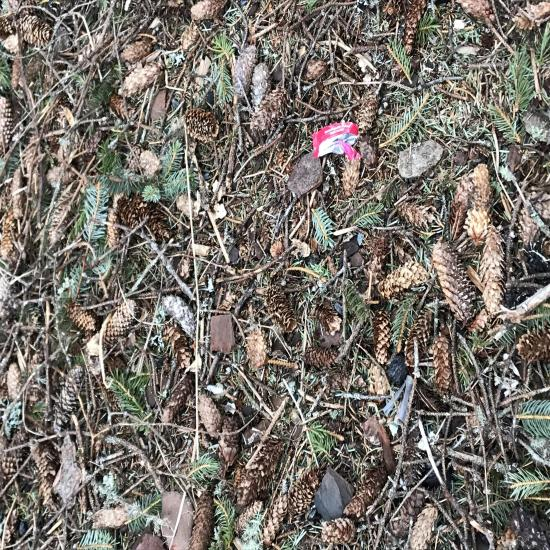Paper cup: (54, 108, 168, 245)
